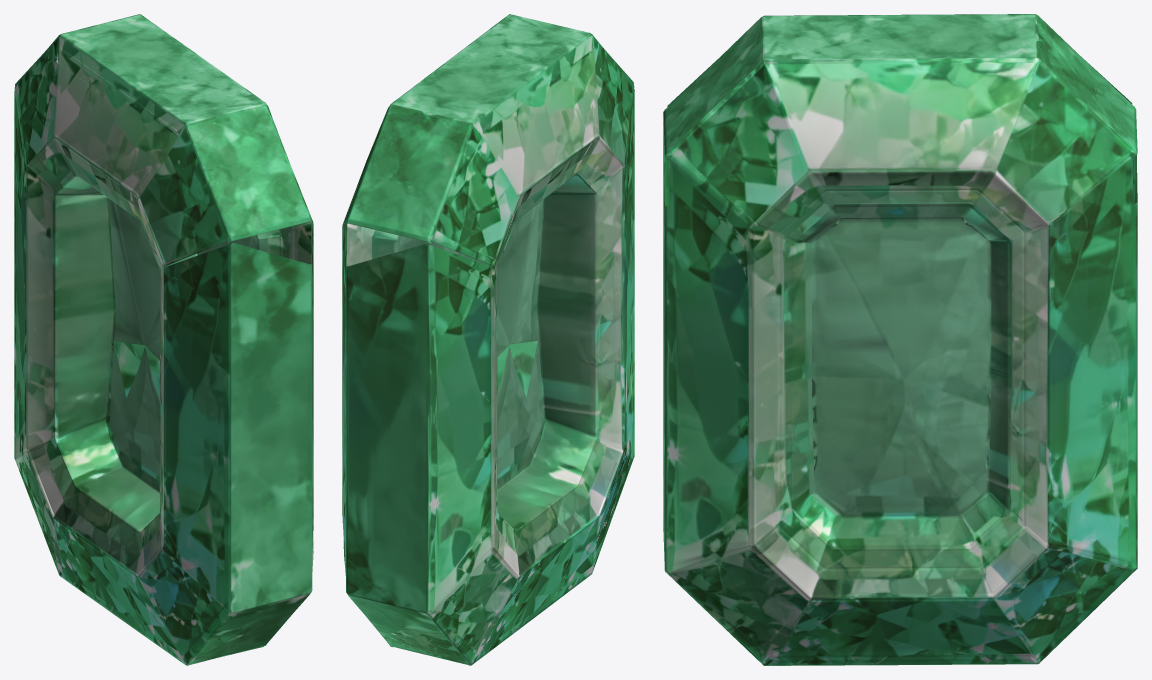
3 renders of one model, left to right at view 1: azimuth 30°, elevation 25°; view 2: azimuth 150°, elevation 25°; view 3: azimuth 270°, elevation 25°, orthographic. The views are drawn at different scales.
Visible parts, largest first — view 1: tripo_node_f9d7805f-6917-4e15-96d0-e1e9ab7c112d; view 2: tripo_node_f9d7805f-6917-4e15-96d0-e1e9ab7c112d; view 3: tripo_node_f9d7805f-6917-4e15-96d0-e1e9ab7c112d.
Part boxes in pixels (x1=…): tripo_node_f9d7805f-6917-4e15-96d0-e1e9ab7c112d: x1=14, y1=14, x2=313, y2=665; tripo_node_f9d7805f-6917-4e15-96d0-e1e9ab7c112d: x1=342, y1=14, x2=634, y2=665; tripo_node_f9d7805f-6917-4e15-96d0-e1e9ab7c112d: x1=663, y1=14, x2=1137, y2=665.
Bounding box in the file's own units: 0.0149 × 0.05 × 0.0354.
Materials: 1 (1 with a texture image).
